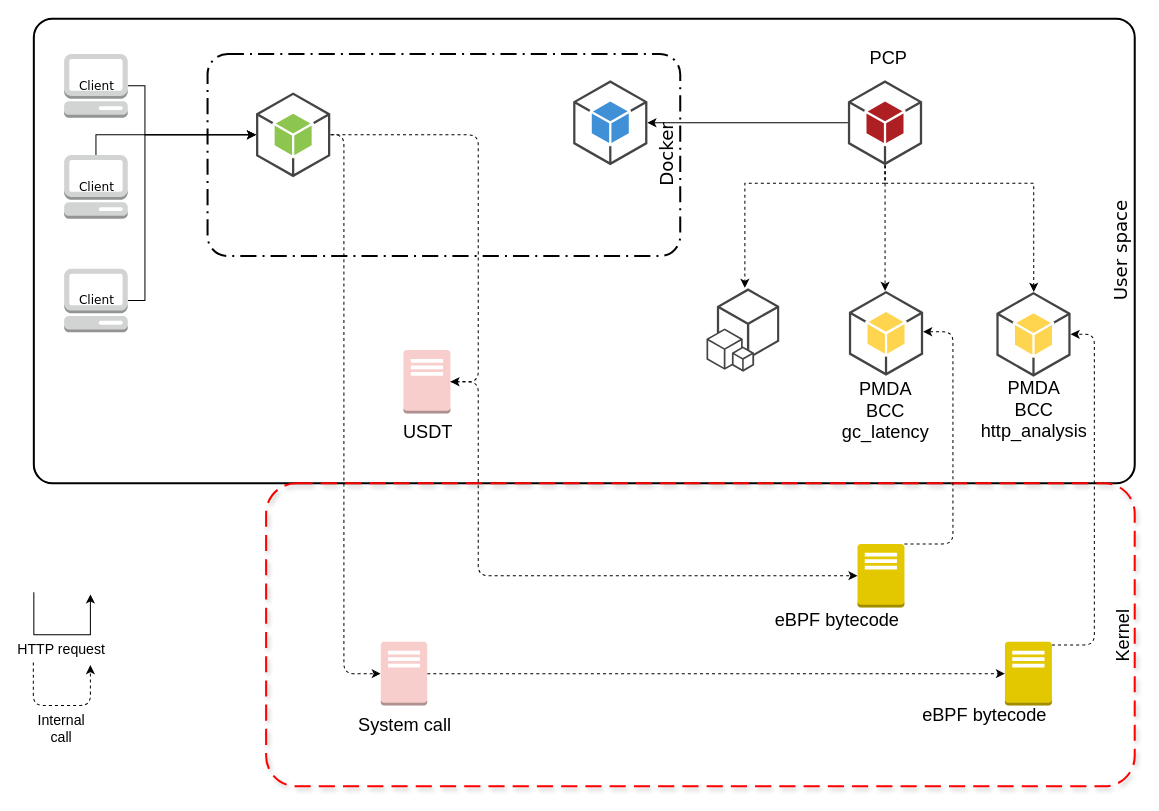
Some shapes in this 1159 by 811 pixel diagram are drawn without their labels. The centre of each missing label's shape, as x and y in pixels:
"Interledger JavaScript Connector" belongs at (x=292, y=134).
"Other PMDA" belongs at (x=742, y=329).
"Vector" belongs at (x=609, y=122).
